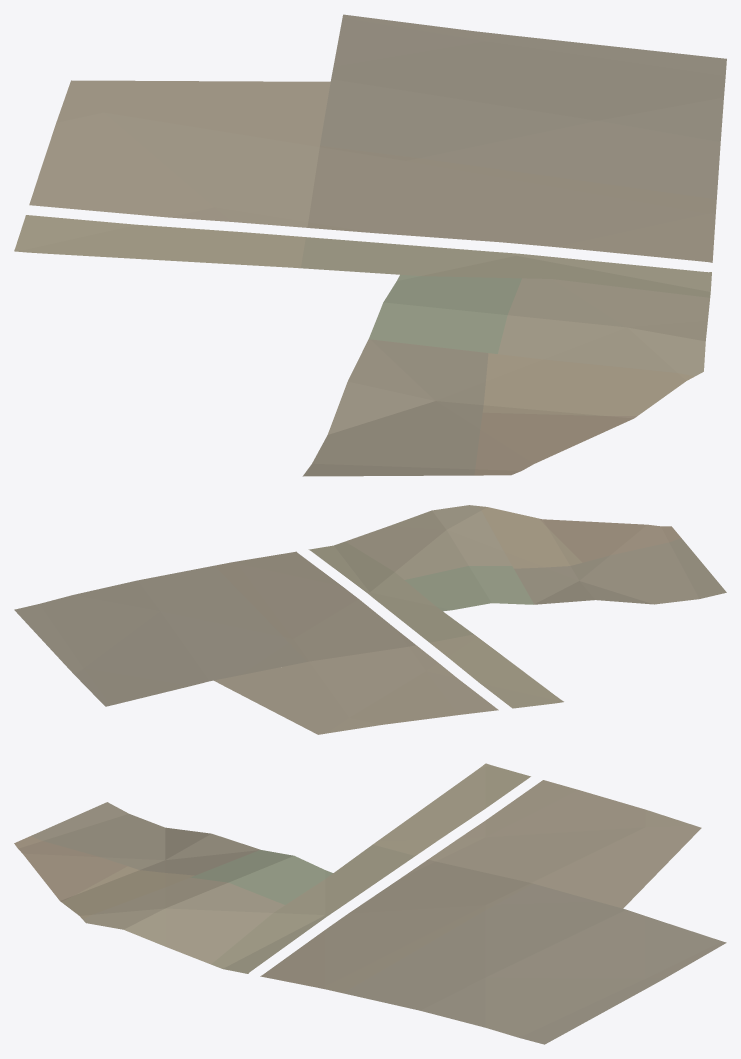
File: farm_7_9_soil.glb
The picture shows the model from 3 angles, top to bottom: view 1: azimuth 30°, elevation 25°; view 2: azimuth 150°, elevation 25°; view 3: azimuth 270°, elevation 25°; orthographic projection. The views are drawn at different scales.
Visible parts, largest first — view 1: geometry_0; view 2: geometry_0; view 3: geometry_0.
Boxes of the visible parts, x1,y1,x2,y2 form: geometry_0: (14, 14, 726, 476); geometry_0: (14, 505, 726, 734); geometry_0: (14, 763, 726, 1044).
Bounding box in the file's own units: 315 × 22.31 × 356.
